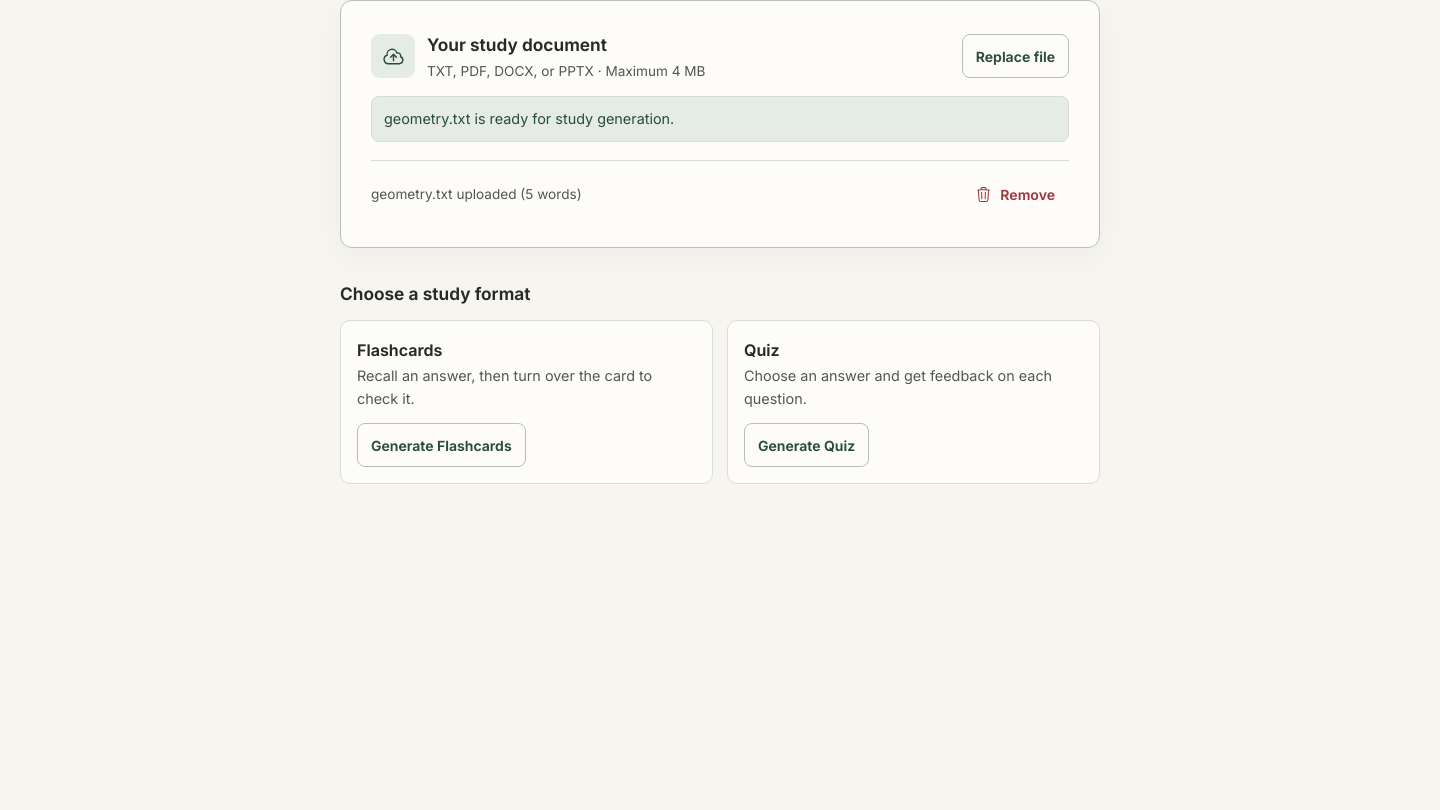
Test: shows a wait message when an application 429 does not expose Retry-After
Earlier steps of the test are not shown.
Expected: the text "geometry.txt uploaded (5 words)" is shown, x1=371 y1=184 x2=582 y2=206
What coordinates should you click on to do the following:
click the button "Generate Flashcards"
I would click on:
 (441, 445)
Its box is x1=357 y1=423 x2=526 y2=467.
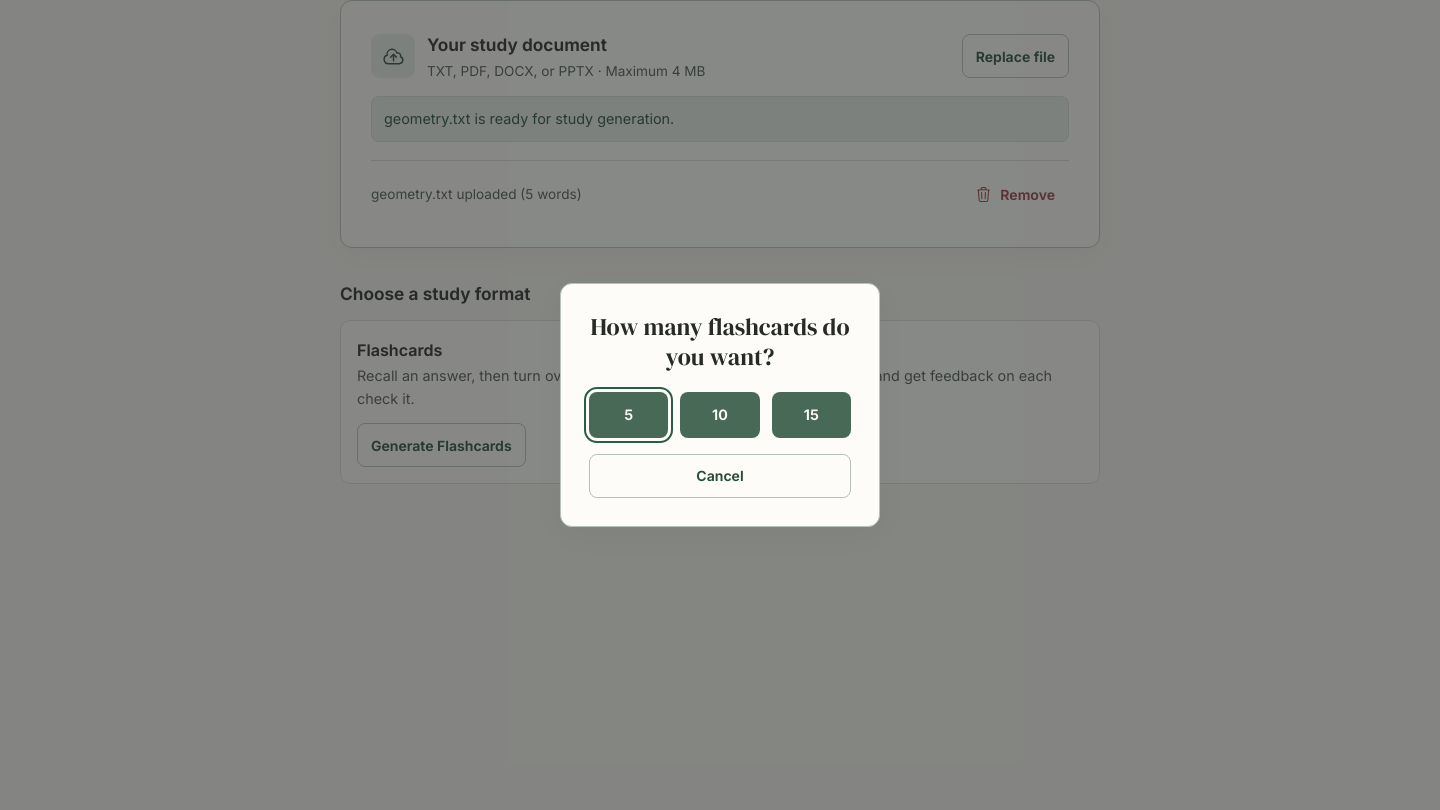
What coordinates should you click on to do the following:
click the button "5"
I would click on:
 (629, 415)
Its box is x1=589 y1=392 x2=668 y2=438.
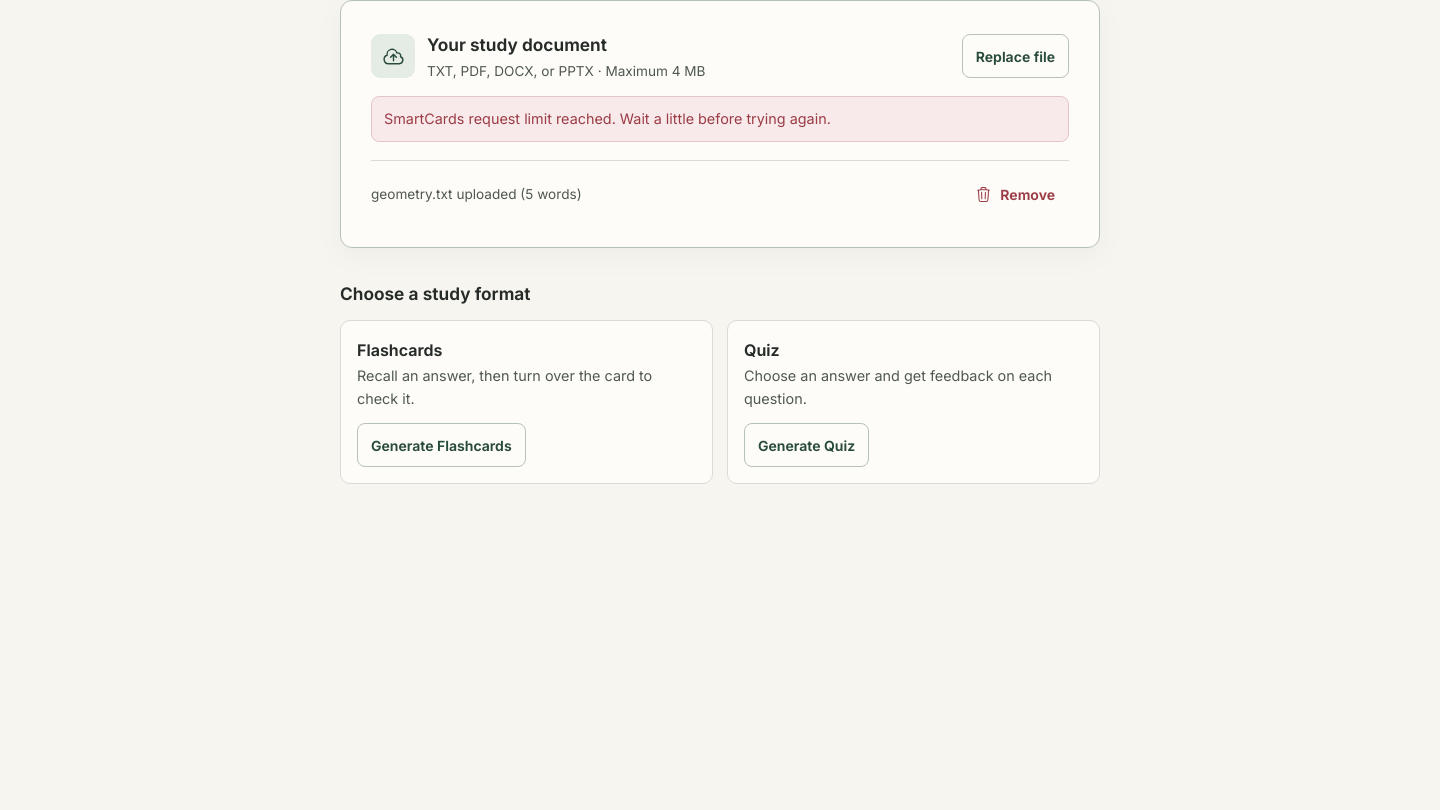
Now the message reads "SmartCards request limit reached. Wait a little before trying again.", box x1=384 y1=110 x2=831 y2=127
